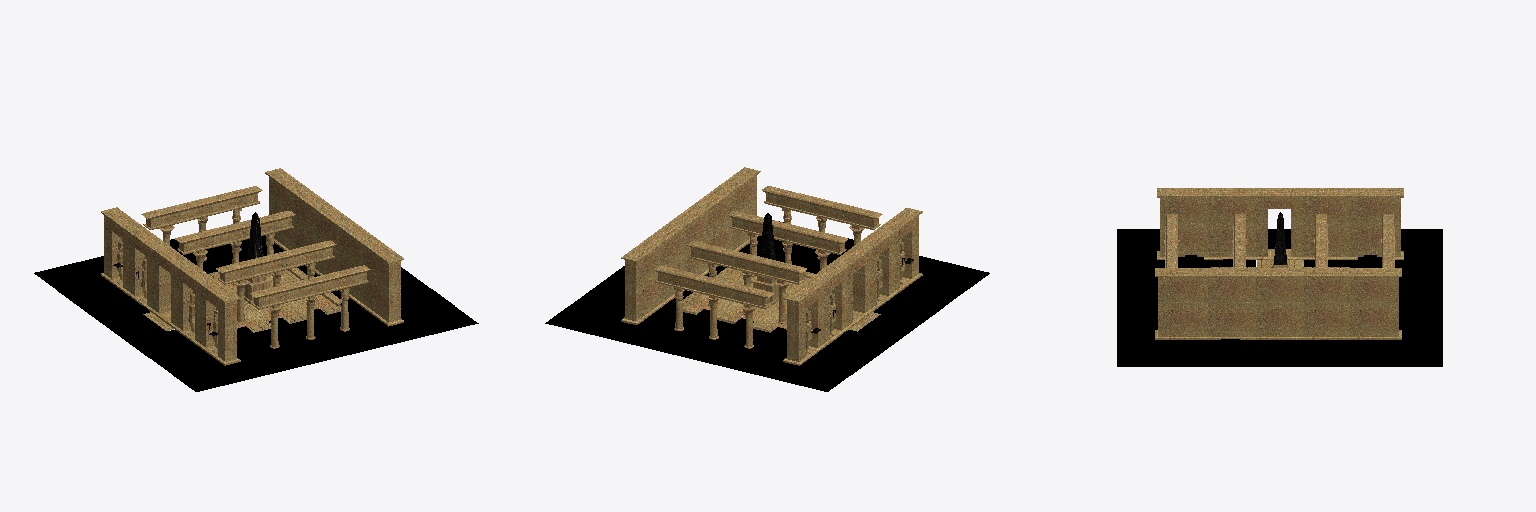
The picture shows the model from 3 angles: view 1: azimuth 30°, elevation 25°; view 2: azimuth 150°, elevation 25°; view 3: azimuth 270°, elevation 25°; orthographic projection.
Visible parts, largest first — view 1: pCube22; view 2: pCube22; view 3: pCube22.
Boxes of the visible parts, <box> form: pCube22: <box>34,168,478,391</box>; pCube22: <box>545,167,989,391</box>; pCube22: <box>1117,188,1442,366</box>.
Size of the model in its own units: 156 by 45.96 by 155.
17 materials, 2 textured.